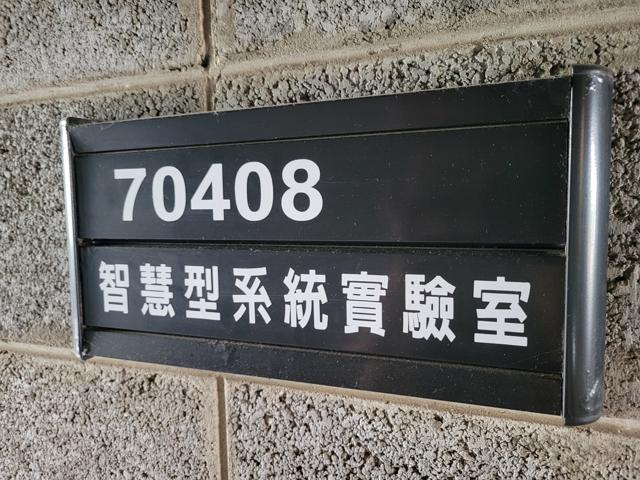doorplate: (47, 52, 618, 431)
